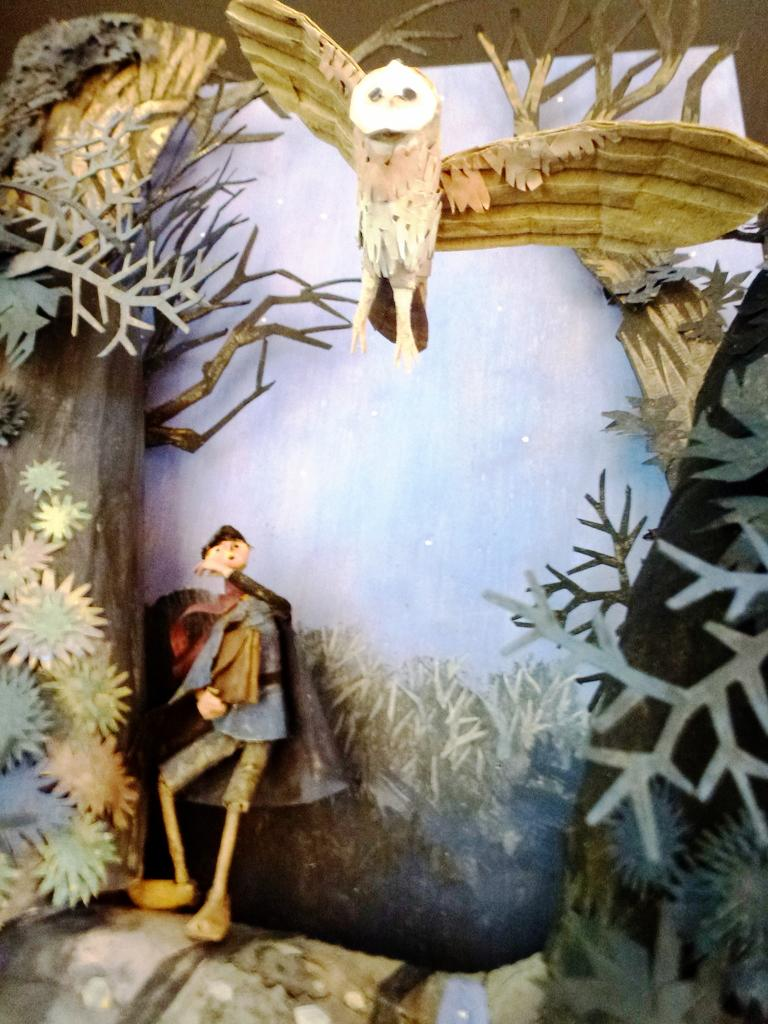Owl: (222, 0, 767, 374)
